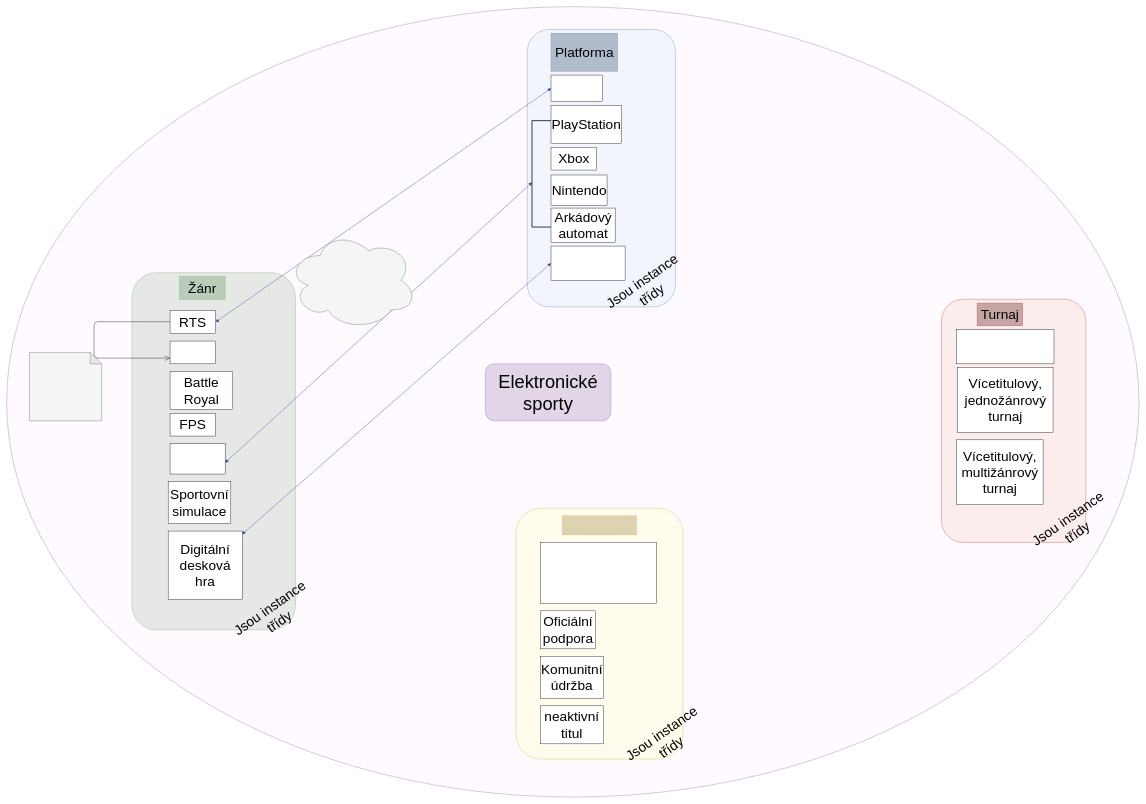
Some shapes in this 1146 by 804 pixel diagram are drawn without their labels. Each missing label, with the centre of its shape:
Fighting game: pixel 197 458
Jednotitulový turnaj: pixel 1005 346
Komunita: pixel 599 525
MOBA: pixel 193 352
Mobil/tablet: pixel 588 263
Oficiální podpora a vydávání nového obsahu: pixel 598 572
PC: pixel 576 88
Vztah: je obvykle hráno na: pixel 352 280
Z je odvozeno: pixel 65 386
